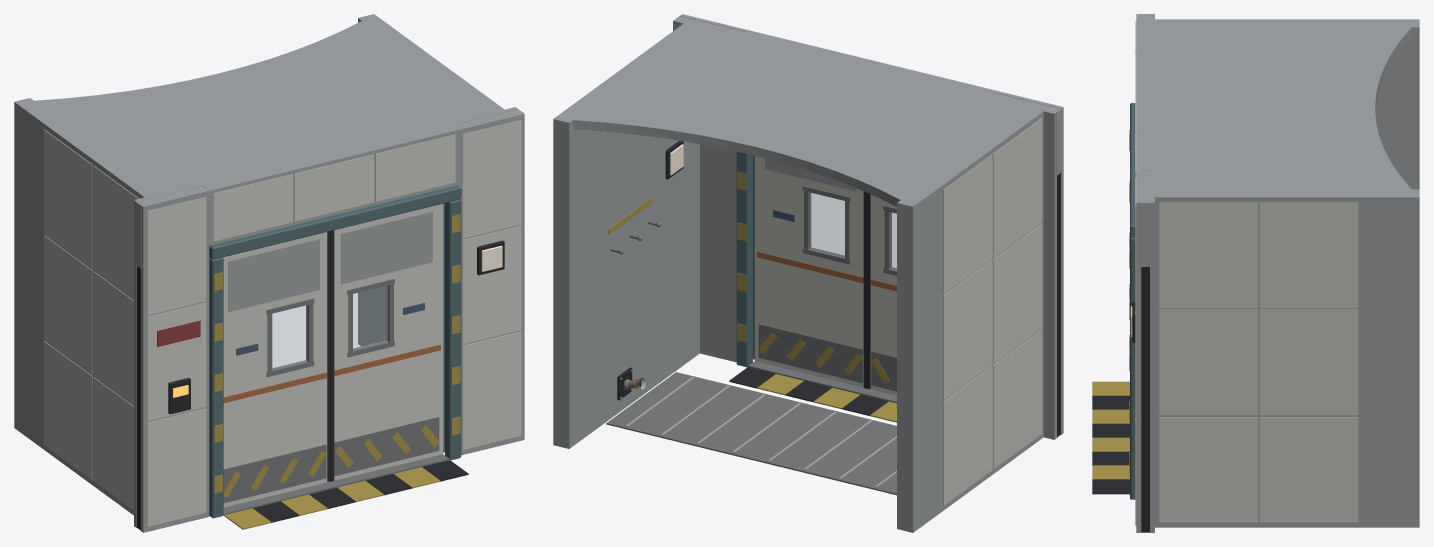
The model's file is astro_airlock_vestibule.fbx.
3 views of the same model, side by side, from view 1: azimuth 30°, elevation 25°; view 2: azimuth 150°, elevation 25°; view 3: azimuth 270°, elevation 25° (orthographic).
Visible parts, largest first — view 1: AirlockVestibule_Body, AirlockVestibule_LeafB, AirlockVestibule_LeafA; view 2: AirlockVestibule_Body, AirlockVestibule_LeafB, AirlockVestibule_LeafA; view 3: AirlockVestibule_Body.
Boxes of the visible parts, <box> form: AirlockVestibule_Body: <box>14,14,524,532</box>; AirlockVestibule_LeafB: <box>330,203,443,481</box>; AirlockVestibule_LeafA: <box>223,231,330,507</box>; AirlockVestibule_Body: <box>553,14,1063,532</box>; AirlockVestibule_LeafB: <box>754,156,867,388</box>; AirlockVestibule_LeafA: <box>867,193,896,395</box>; AirlockVestibule_Body: <box>1092,14,1419,532</box>.
Size of the model in its own units: 711 by 580 by 521.
